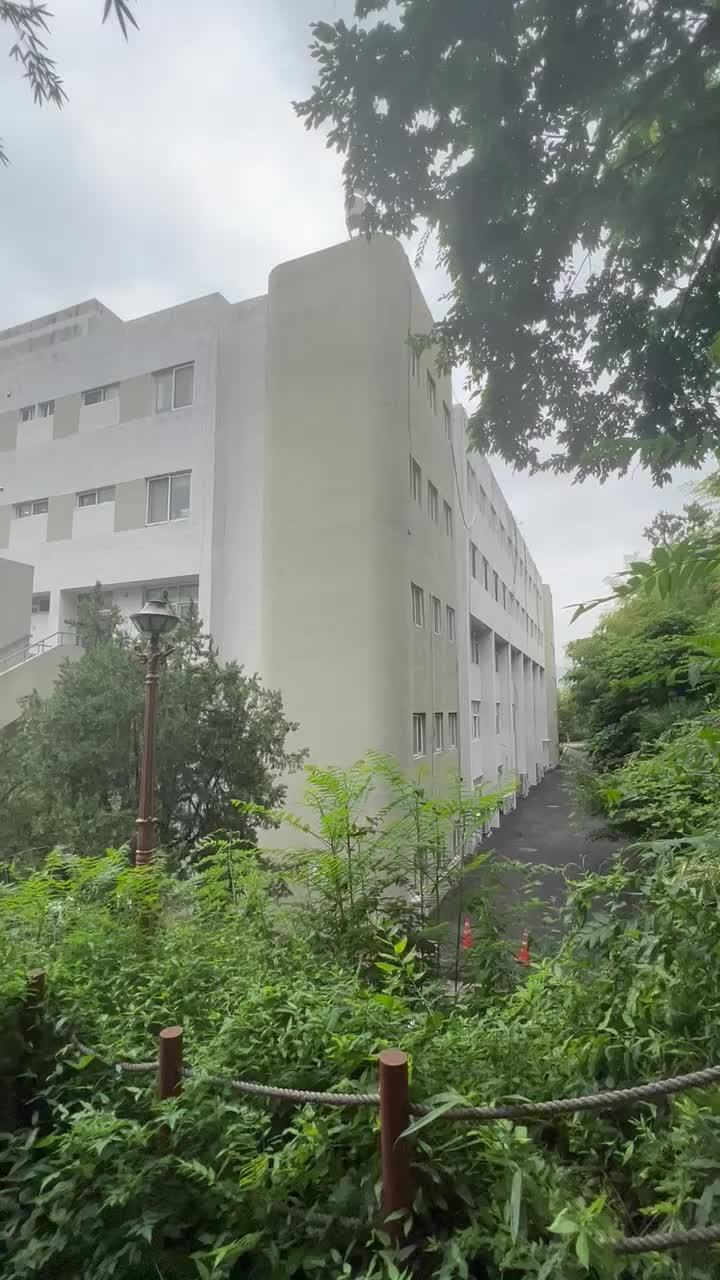building: (16, 252, 454, 656)
